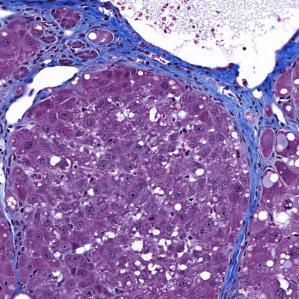fibrosis: (33, 11, 144, 72), (184, 65, 274, 118)
